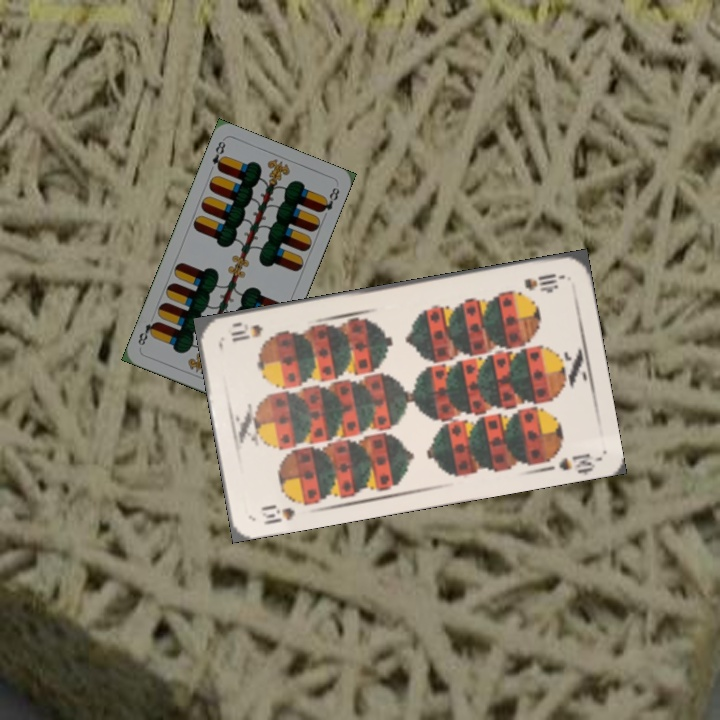E8: (208, 137, 228, 173)
S10: (257, 500, 297, 528), (520, 269, 566, 293)
